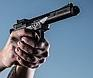gun: (1, 1, 93, 78)
